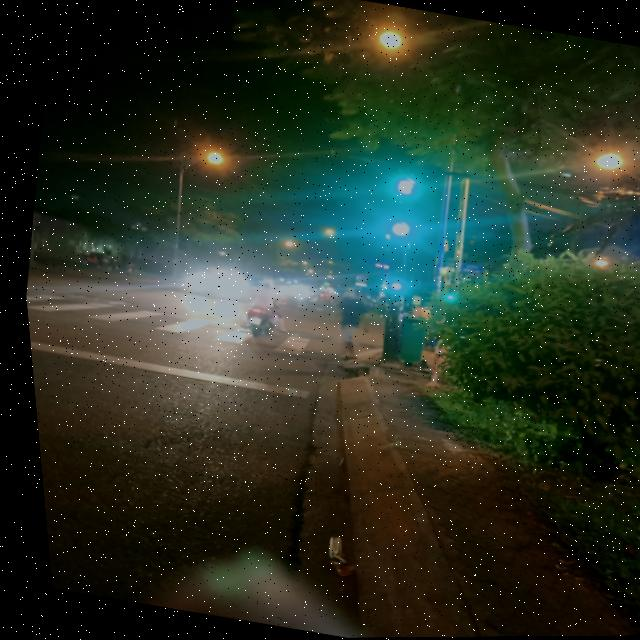Green: (378, 200, 415, 250)
